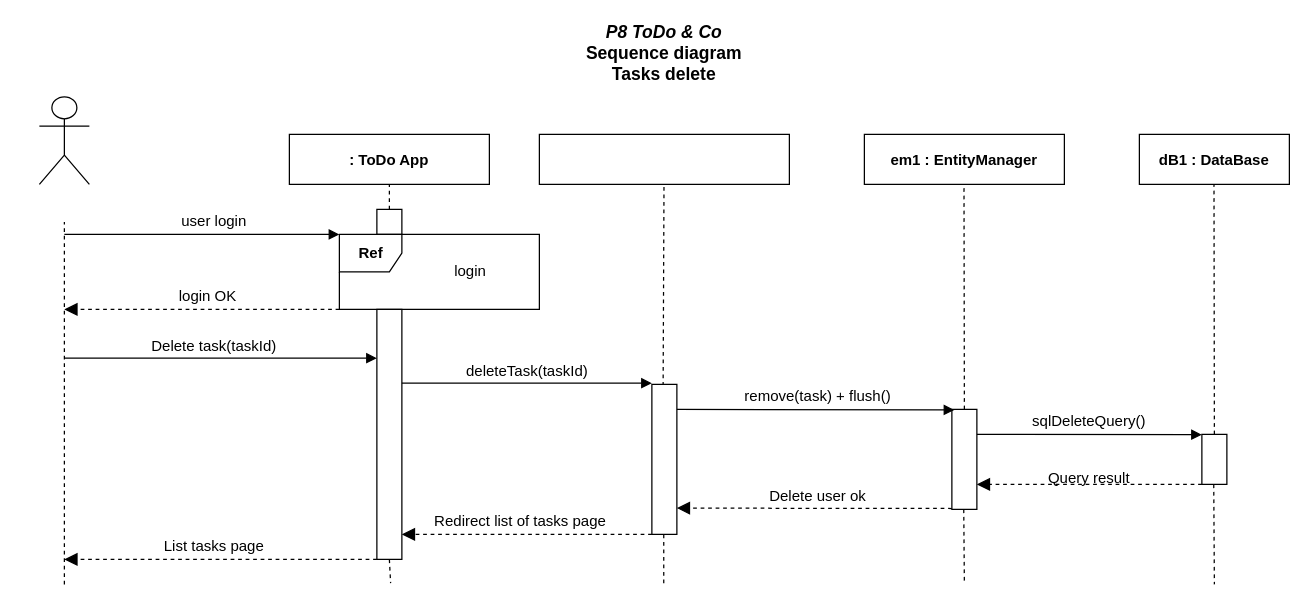
The diagram is 1311 pixels wide and 608 high, and some of its shapes have lost their labels. The box of each missing label's shape, as (x1, y1, x2, y2) in pixels:
taskCtrl1 : taskController: (538, 133, 789, 184)
user1 : User: (38, 96, 89, 184)
